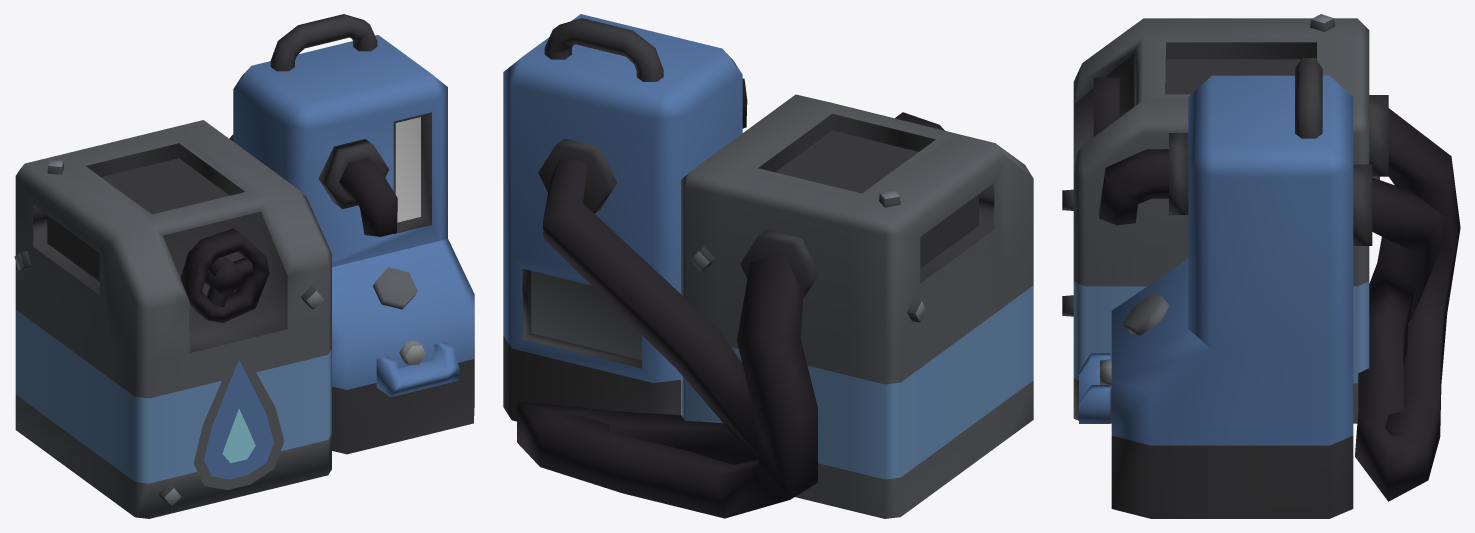
The model's file is WaterTank.glb.
The picture shows the model from 3 angles, left to right: view 1: azimuth 30°, elevation 25°; view 2: azimuth 150°, elevation 25°; view 3: azimuth 270°, elevation 25°; orthographic projection. The views are drawn at different scales.
Visible parts, largest first — view 1: WaterTank; view 2: WaterTank; view 3: WaterTank.
Boxes of the visible parts, x1,y1,x2,y2 form: WaterTank: [14, 14, 474, 518]; WaterTank: [503, 14, 1033, 518]; WaterTank: [1062, 14, 1460, 518].
Bounding box in the file's own units: 0.792 × 0.7241 × 0.6382.
Materials: 2 (1 with a texture image).
